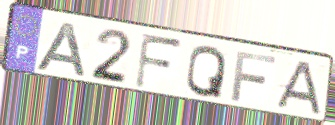2: (91, 28, 134, 87)
A: (33, 20, 89, 80), (271, 60, 325, 118)
F: (132, 31, 184, 91), (229, 49, 278, 104)
Q: (184, 44, 228, 101)
